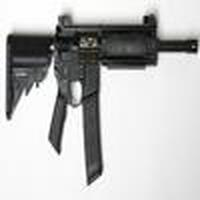gun: (5, 28, 200, 121)
